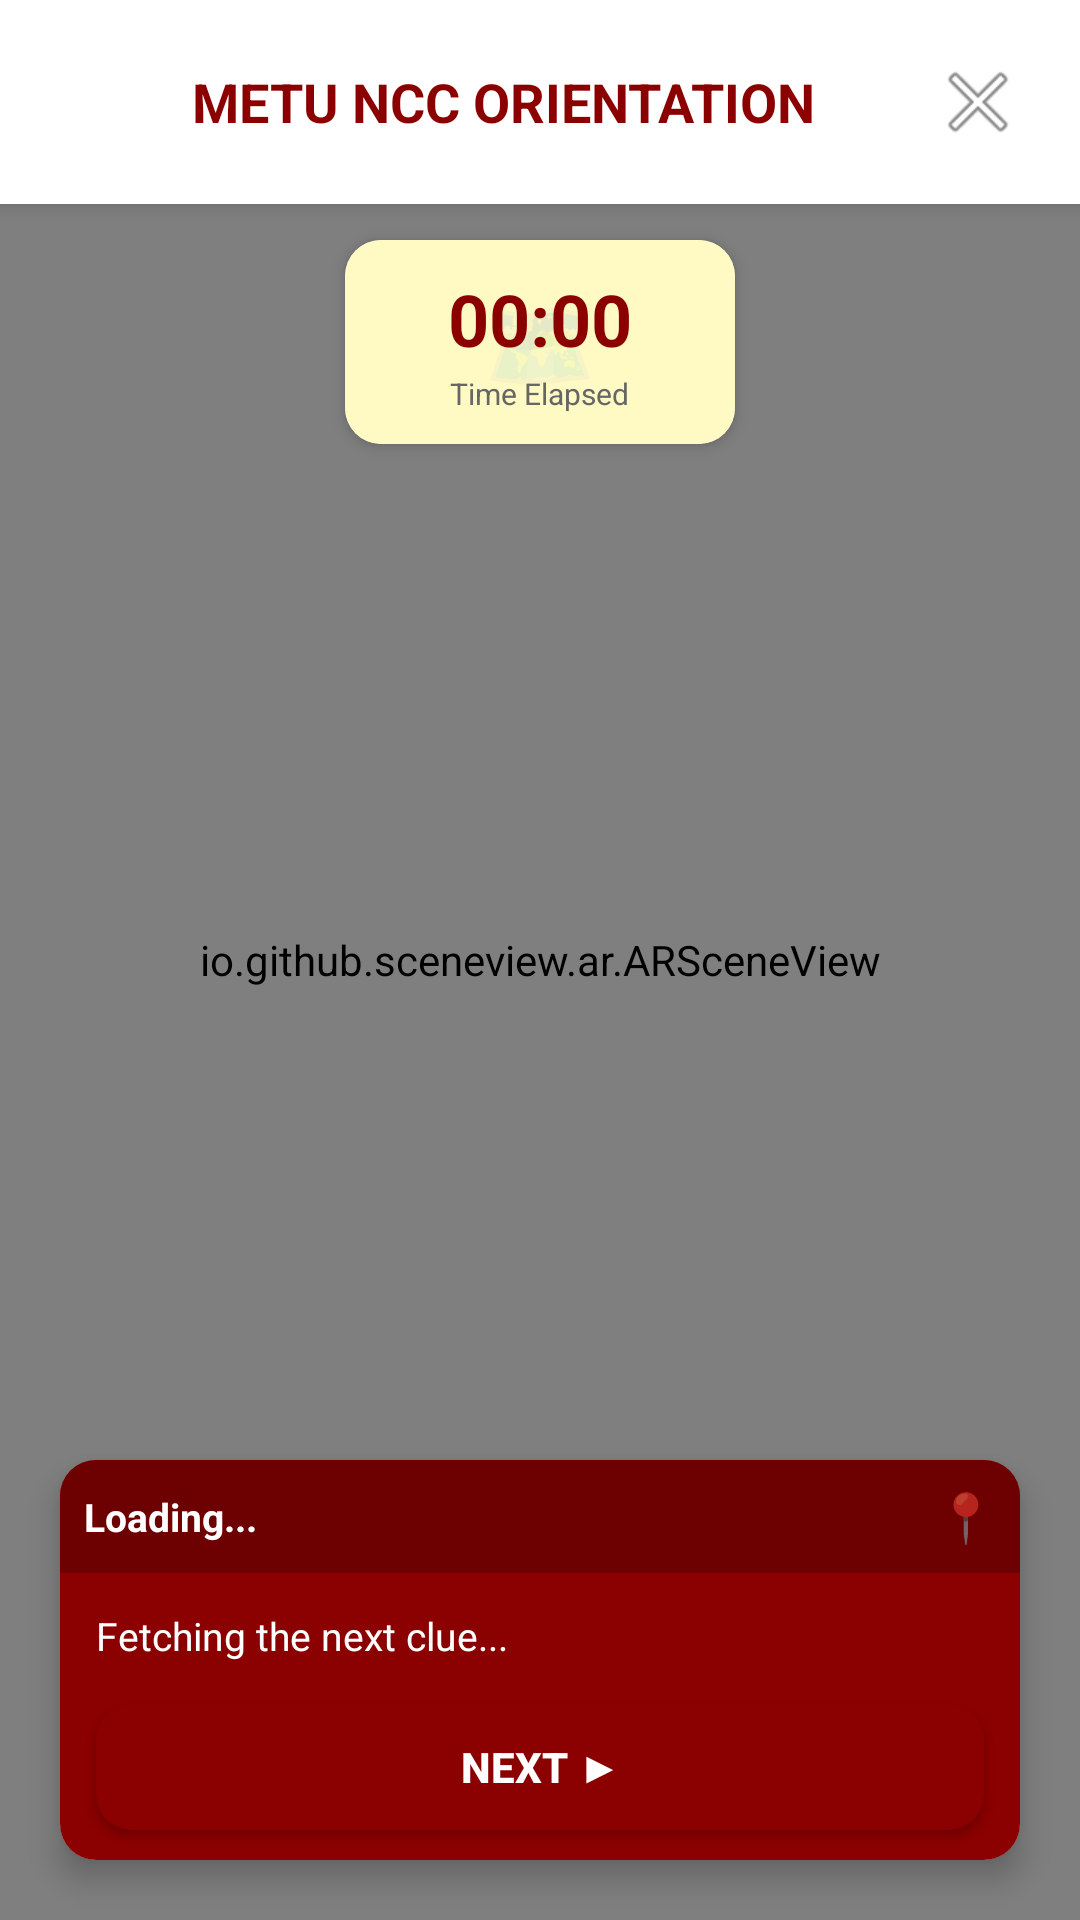

Named icons in this screenshot (1080px x 1920px) and their bounding boxes, Rect(x1, y1, x2, y2):
Close: Rect(948, 72, 1008, 132)
